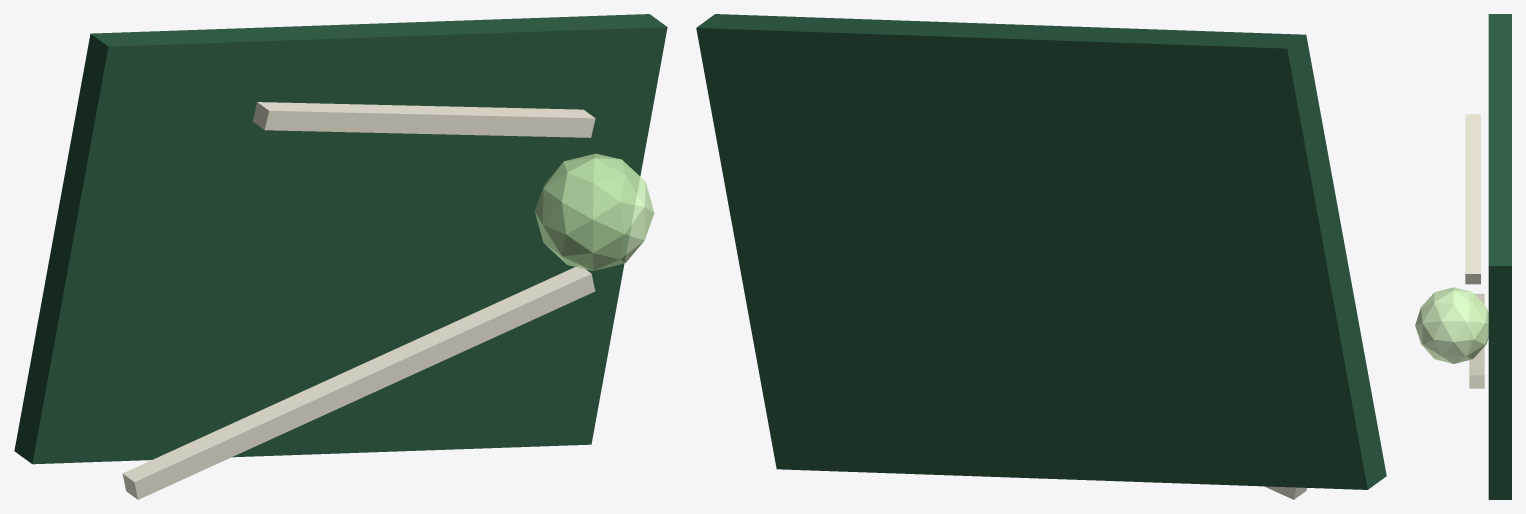
The model's file is 02_world_prop_polish.glb.
3 views of the same model, side by side, from view 1: azimuth 30°, elevation 25°; view 2: azimuth 150°, elevation 25°; view 3: azimuth 270°, elevation 25° (orthographic). The views are drawn at different scales.
Parts seen in each view (by area): view 1: object_overlay_plate, edge_wear_a, glow_socket, edge_wear_b; view 2: object_overlay_plate; view 3: object_overlay_plate, glow_socket, edge_wear_b, edge_wear_a.
Part boxes in pixels (x1,y1,x2,y2): object_overlay_plate: (14, 14, 667, 464); edge_wear_a: (122, 266, 595, 499); glow_socket: (535, 153, 654, 270); edge_wear_b: (252, 102, 595, 137); object_overlay_plate: (696, 14, 1386, 489); object_overlay_plate: (1488, 14, 1511, 499); glow_socket: (1415, 287, 1488, 363); edge_wear_b: (1465, 114, 1480, 284); edge_wear_a: (1469, 293, 1484, 388).
Size of the model in its own units: 1.23 by 0.9509 by 0.25.
